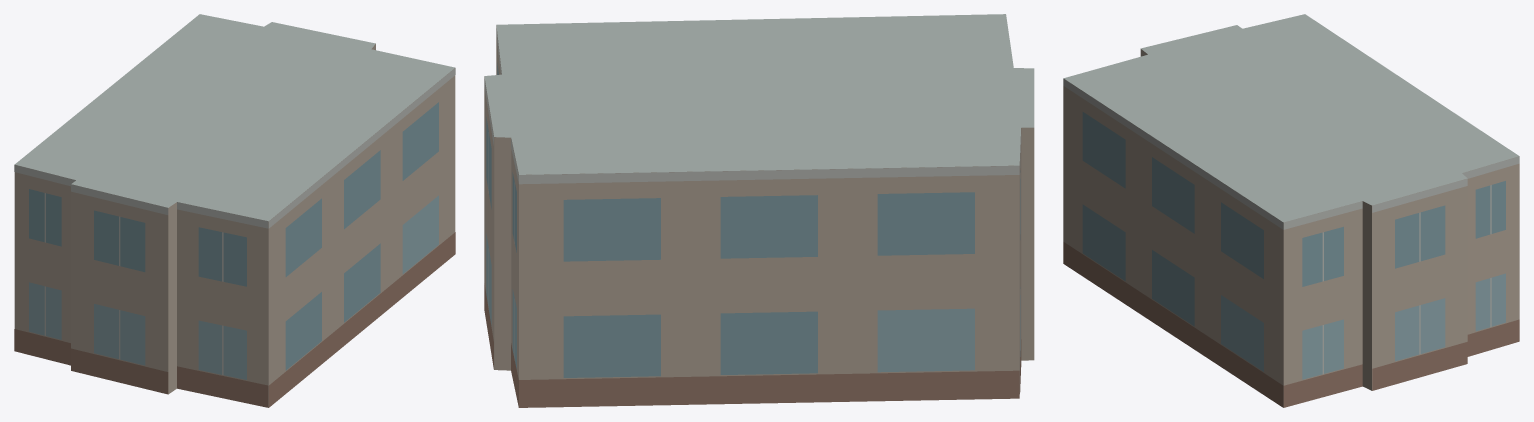
Rendered from survey-upis-32877867.glb.
3 renders of one model, left to right at view 1: azimuth 30°, elevation 25°; view 2: azimuth 150°, elevation 25°; view 3: azimuth 270°, elevation 25°, orthographic. The views are drawn at different scales.
Parts seen in each view (by area): view 1: survey-upis-32877867.tmp; view 2: survey-upis-32877867.tmp; view 3: survey-upis-32877867.tmp.
Part boxes in pixels (x1,y1,x2,y2): survey-upis-32877867.tmp: (14,14,455,407); survey-upis-32877867.tmp: (484,14,1034,407); survey-upis-32877867.tmp: (1063,14,1519,407).
Size of the model in its own units: 14.72 by 6.1 by 13.61.
